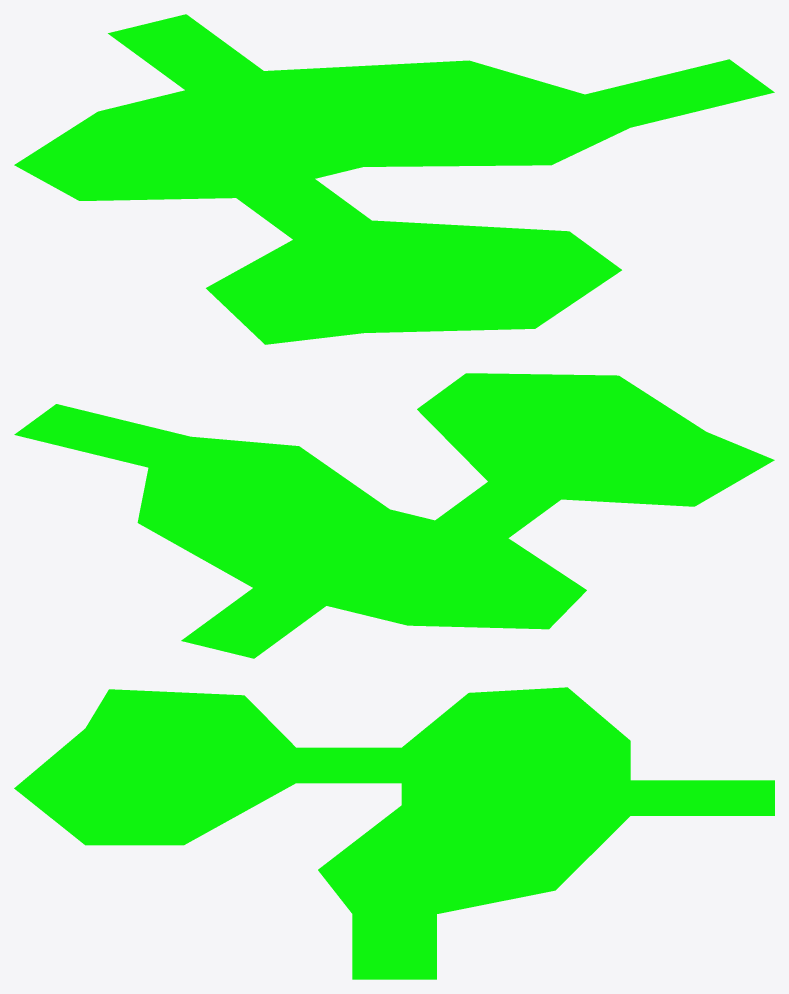
File: s03b_lc1-floor.glb
The picture shows the model from 3 angles, top to bottom: view 1: azimuth 30°, elevation 25°; view 2: azimuth 150°, elevation 25°; view 3: azimuth 270°, elevation 25°; orthographic projection. The views are drawn at different scales.
Visible parts, largest first — view 1: collision_floor-colonly; view 2: collision_floor-colonly; view 3: collision_floor-colonly.
Part boxes in pixels (x1,y1,x2,y2): collision_floor-colonly: [14, 14, 774, 344]; collision_floor-colonly: [14, 373, 774, 658]; collision_floor-colonly: [14, 687, 774, 979].
Bounding box in the file's own units: 49.12 × 0 × 54.04.
